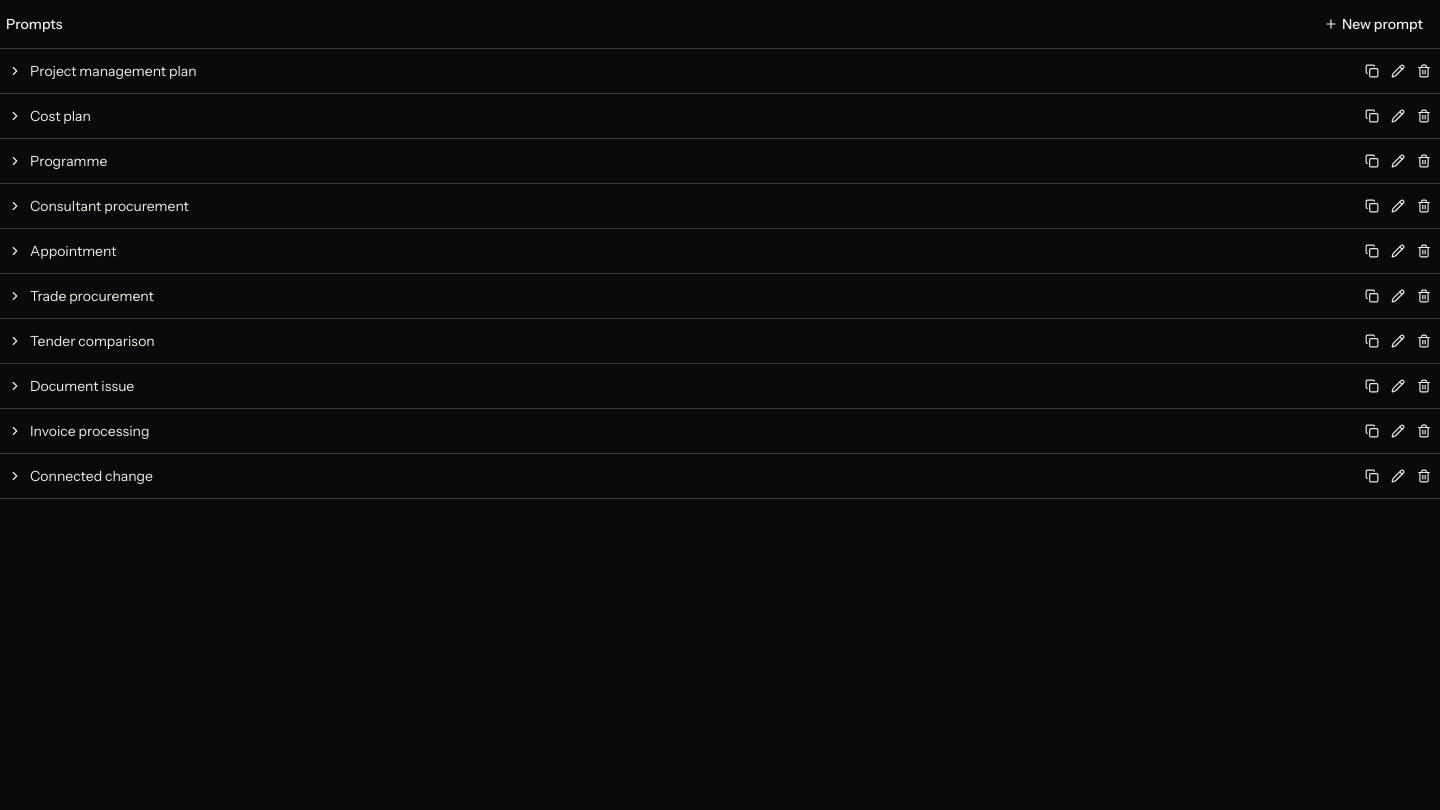
Scenario: personal prompts › lists ten topics in test order, expands their text, and copies it
This screenshot has width=1440, height=810.
Click the button "Project management plan".
click(113, 71)  # box [4,49,1358,93]
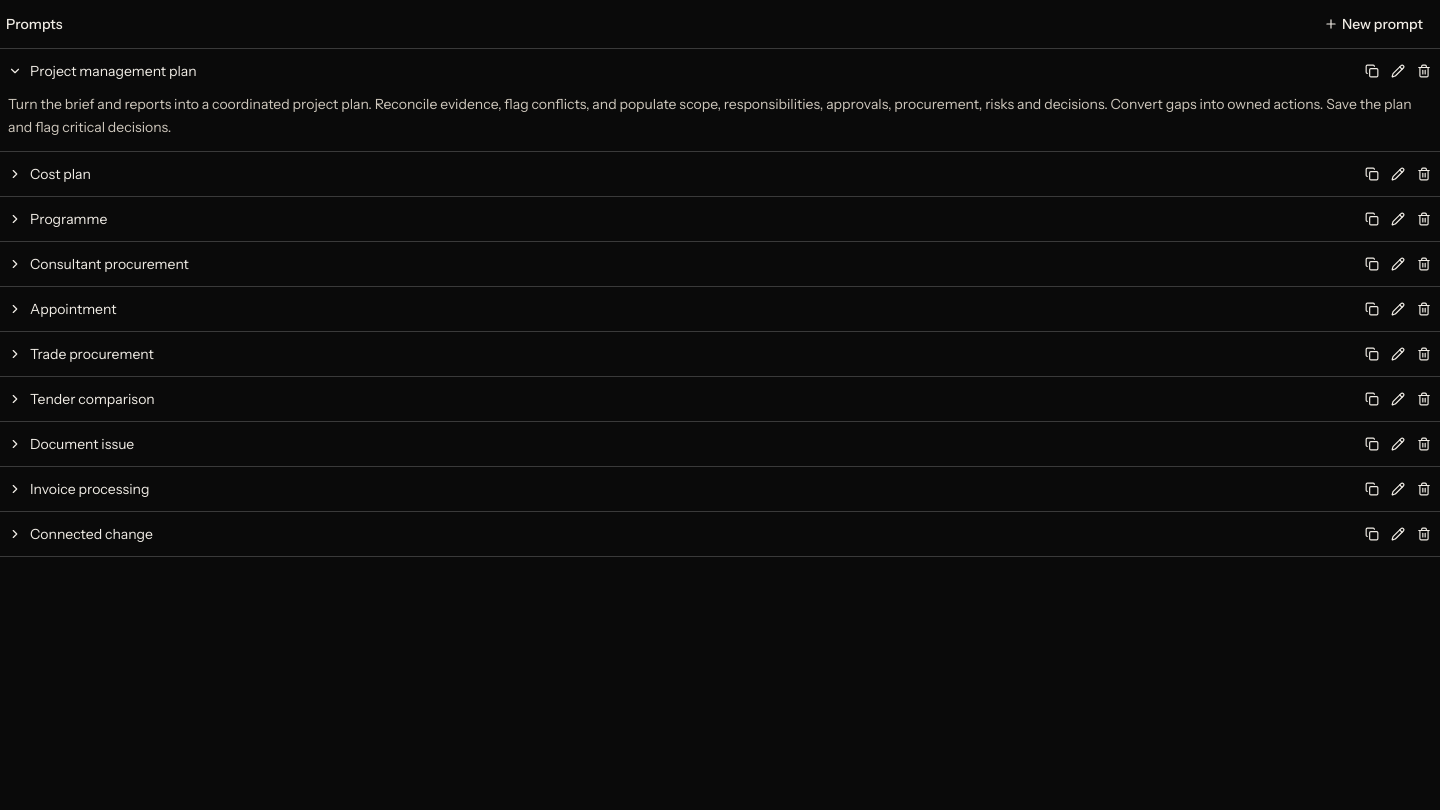
Expected: the text "Turn the brief and reports into a coordinated project plan. Reconcile evidence, flag conflicts, and populate scope, resp" is shown, [8,95,1414,136]
Click the button named "Copy Project management plan".
click(1372, 71)  # box [1360,59,1384,83]
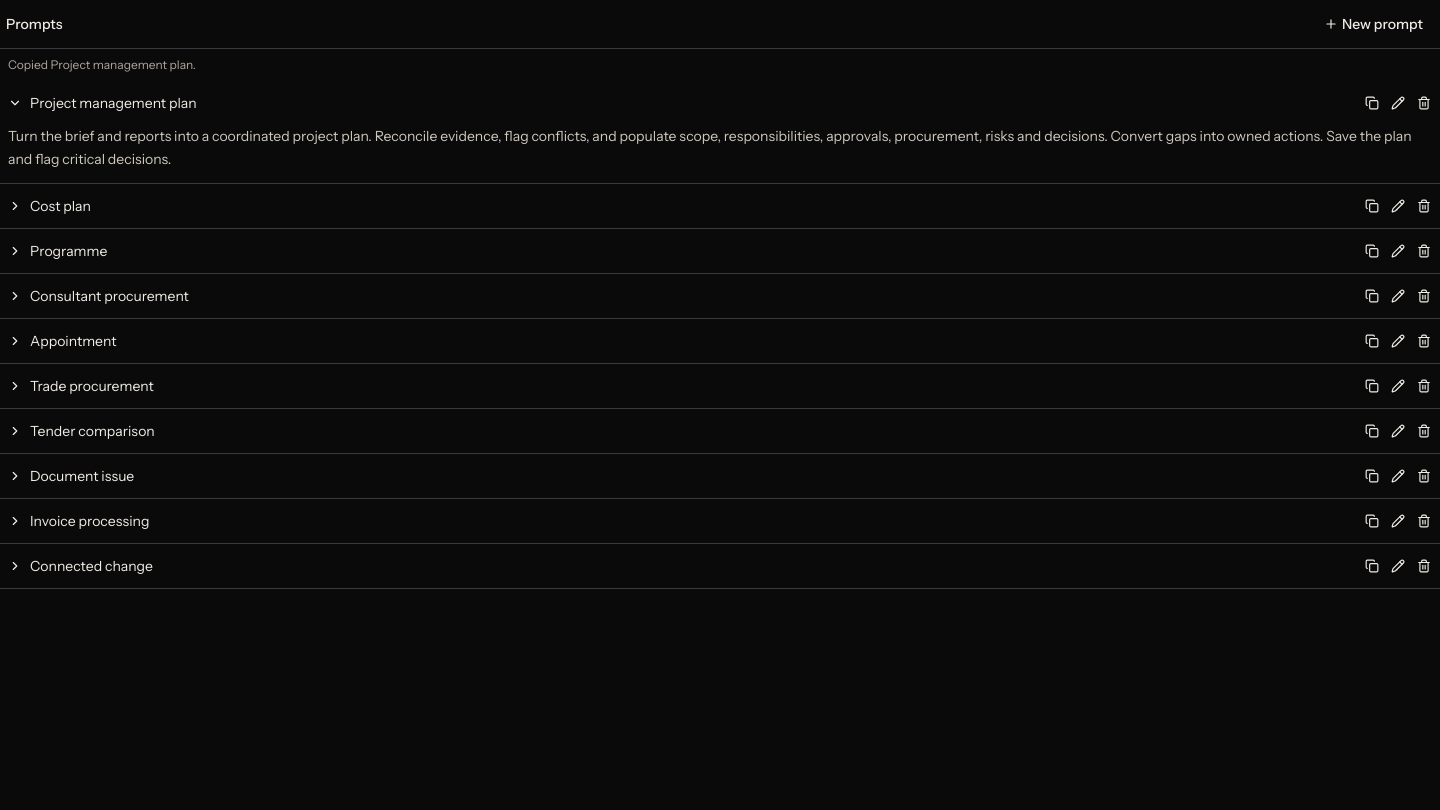
Expected: the message shows "Copied Project management plan", [8,57,196,72]
